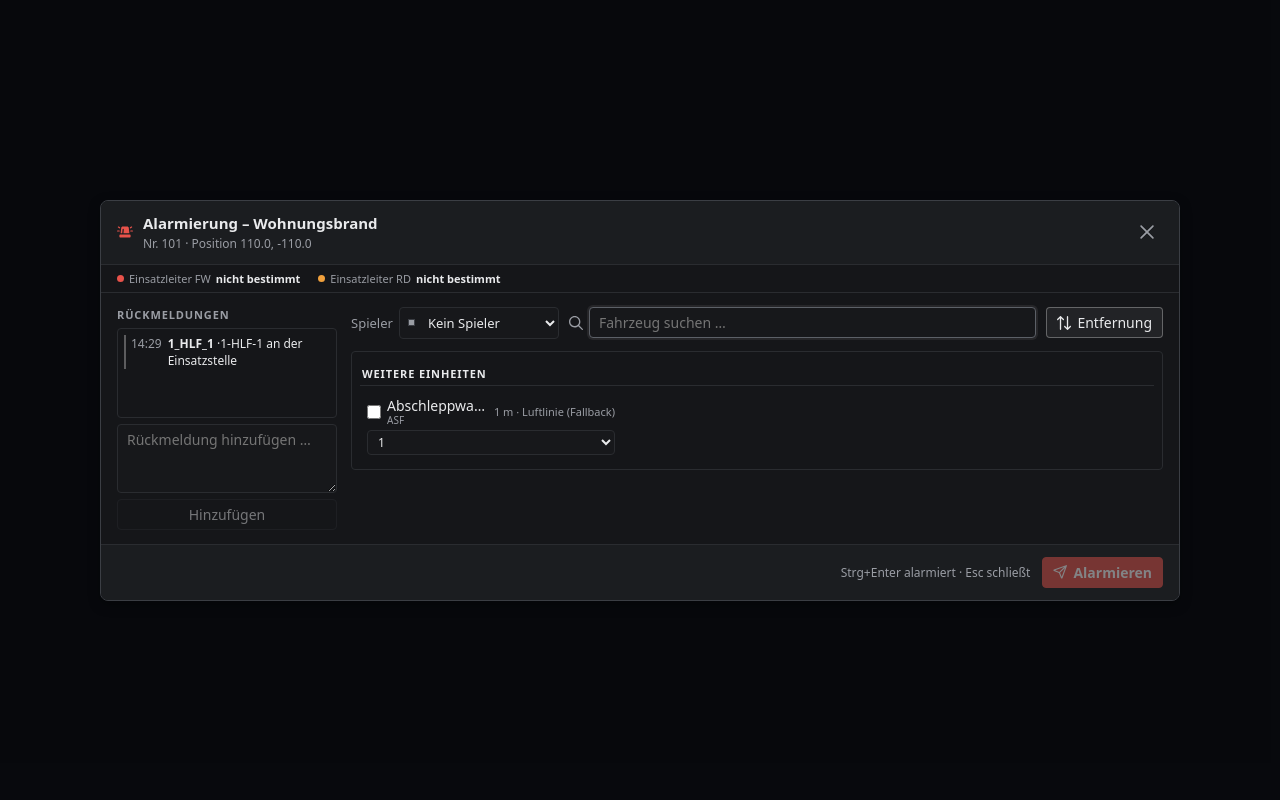
it: Alarmierungsdialog › zeigt bei weiteren Einheiten die mit dem Modus gewählte Fahrzeuganzahl
This screenshot has width=1280, height=800.
Click the checkbox labelled "Abschleppwagen ASF 1 m · Luftlinie (Fallback)" at (374, 412), box [367,405,381,419]
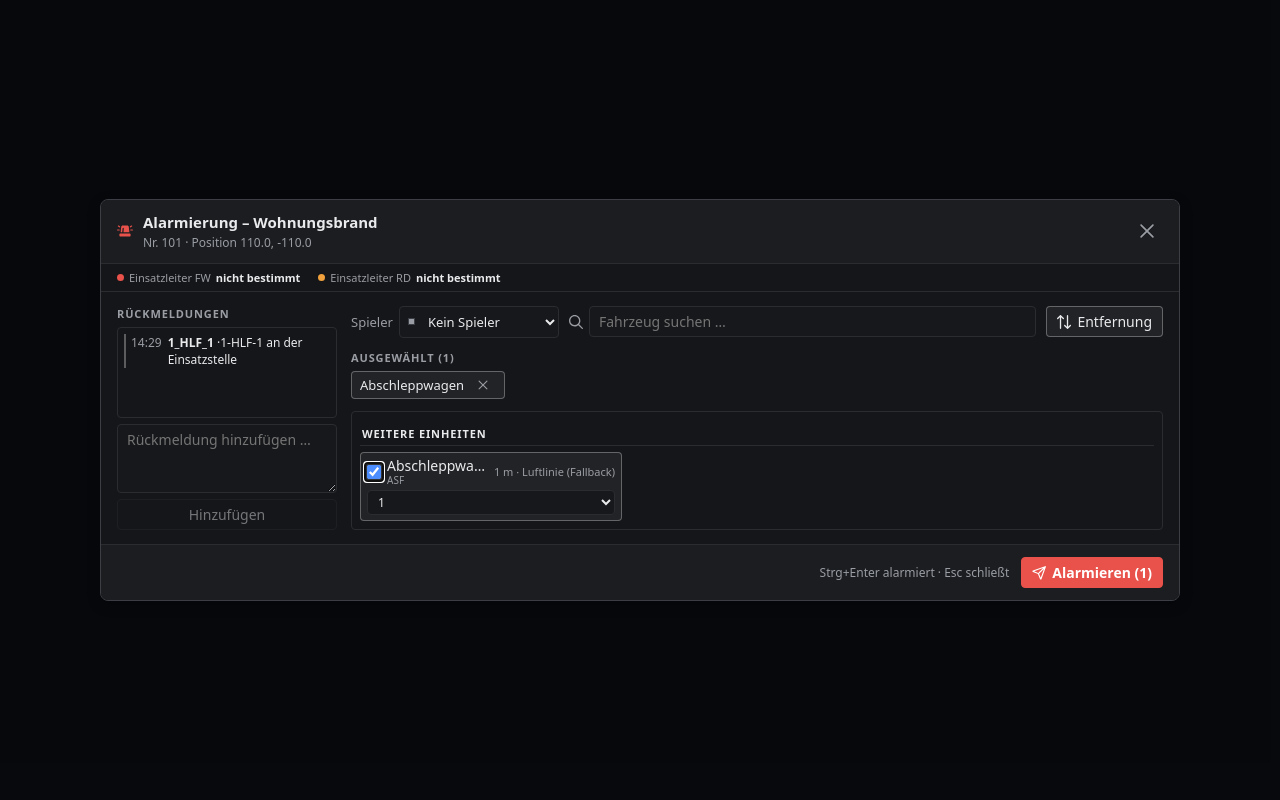
Select "3" in the dropdown named "Ausrückmodus für Abschleppwagen" at (491, 503), box [367,490,615,515]
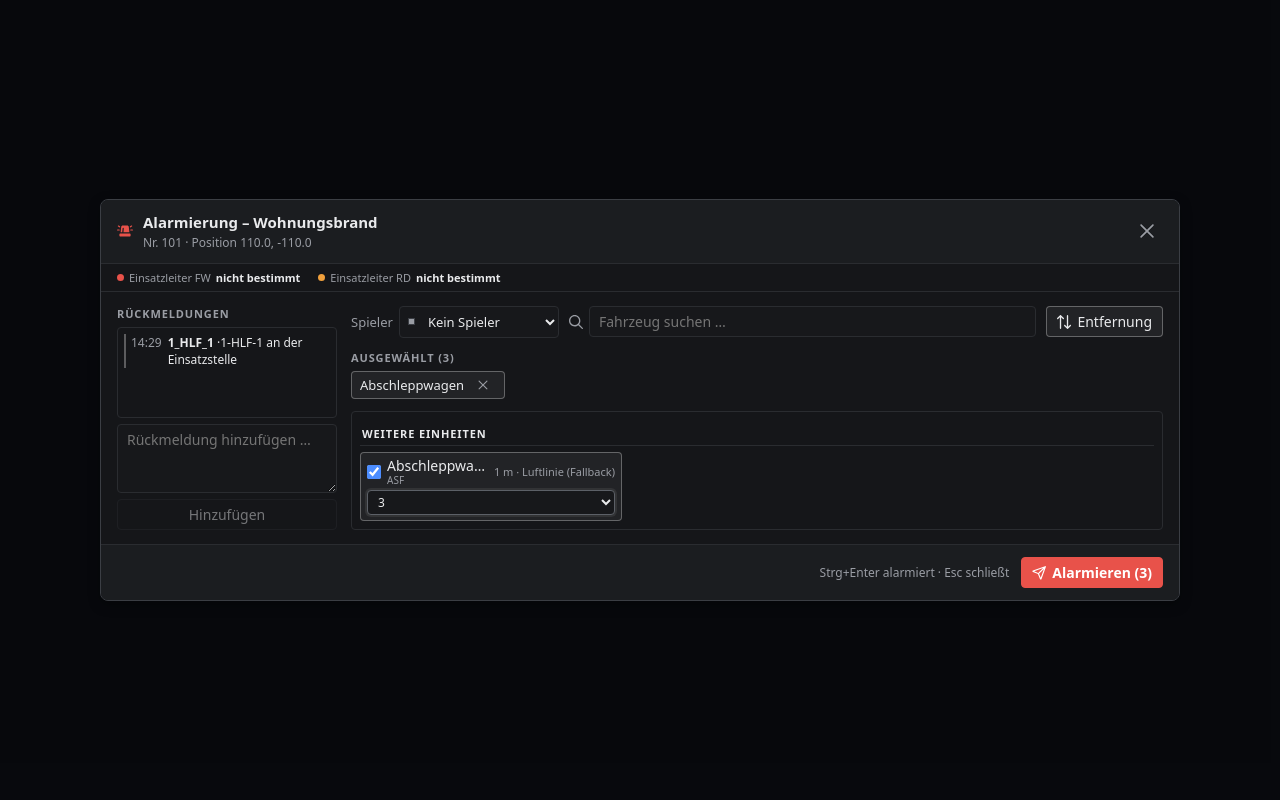
Check: the text "Ausgewählt (3)" is shown, box [351,350,455,365]
Check: the button "Alarmieren (3)" is shown, box [1021,557,1163,588]
